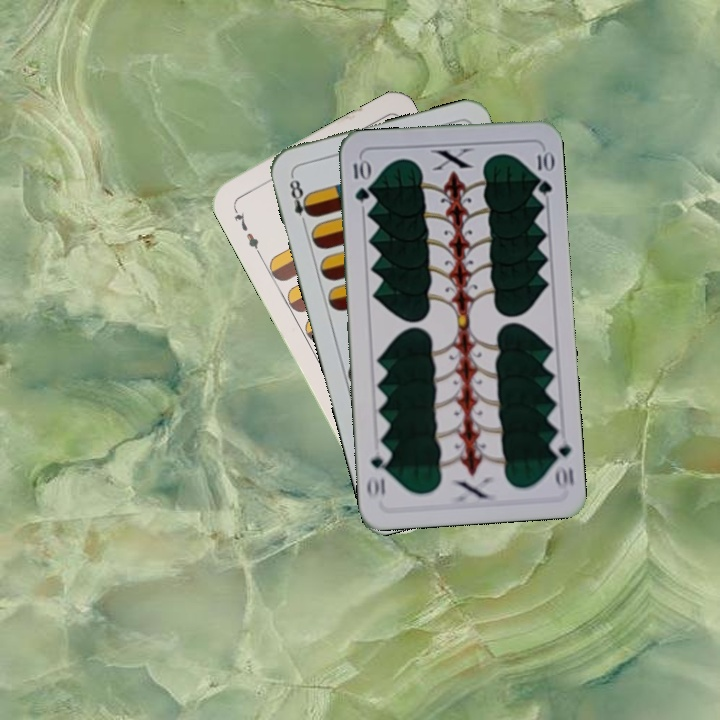E7: (229, 202, 263, 257)
E8: (285, 171, 316, 230)
G10: (547, 432, 577, 492), (349, 155, 371, 204)
